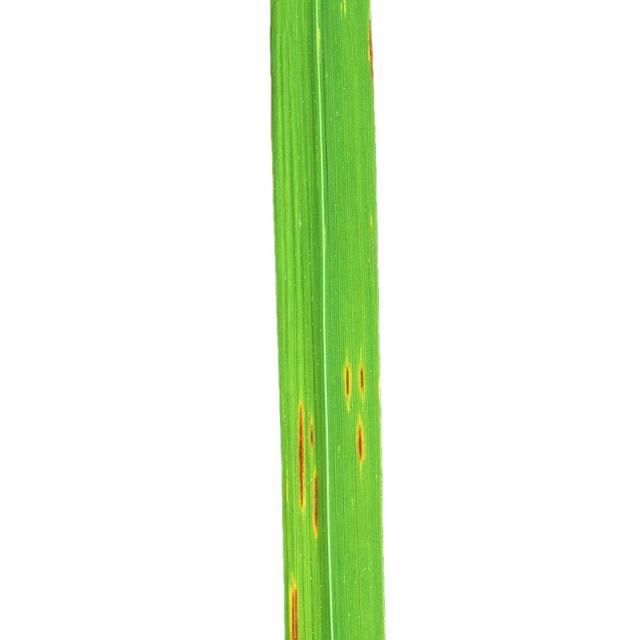Narrow brown: (241, 1, 499, 640)
